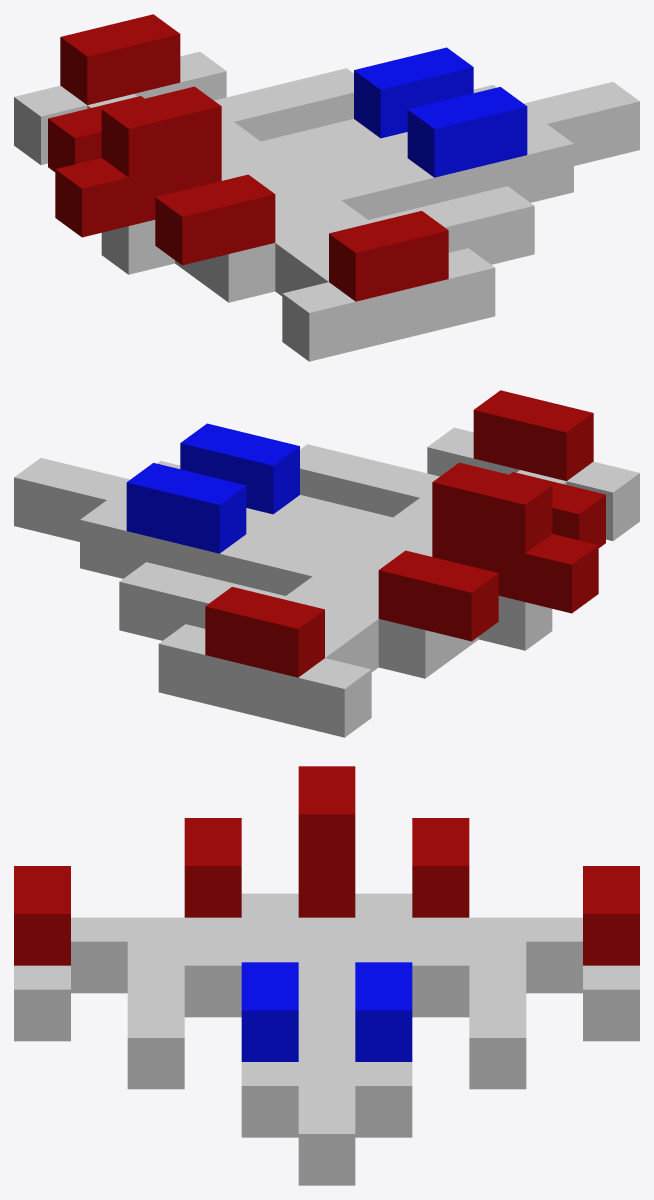
File: Player.fbx
3 renders of one model, top to bottom at view 1: azimuth 30°, elevation 25°; view 2: azimuth 150°, elevation 25°; view 3: azimuth 270°, elevation 25°, orthographic. The views are drawn at different scales.
Parts seen in each view (by area): view 1: Box082, Box073, Box075, Box088, Box090, Box065, Box069, Box071, Box062, Box072, Box068, Box074 (+36 smaller); view 2: Box084, Box075, Box088, Box090, Box066, Box071, Box073, Box069, Box064, Box074, Box070, Box072 (+36 smaller); view 3: Box020, Box046, Box048, Box052, Box042, Box062, Box064, Box068, Box070, Box078, Box079, Box089 (+38 smaller).
Part boxes in pixels (x1=…): Box082: x1=282, y1=282, x2=355, y2=361; Box073: x1=60, y1=25, x2=133, y2=104; Box075: x1=329, y1=222, x2=402, y2=301; Box088: x1=55, y1=158, x2=128, y2=237; Box090: x1=101, y1=98, x2=174, y2=177; Box065: x1=155, y1=186, x2=228, y2=265; Box069: x1=407, y1=98, x2=480, y2=177; Box071: x1=354, y1=59, x2=427, y2=138; Box062: x1=202, y1=174, x2=275, y2=253; Box072: x1=107, y1=14, x2=180, y2=93; Box068: x1=454, y1=87, x2=527, y2=166; Box074: x1=376, y1=211, x2=448, y2=290; Box084: x1=298, y1=658, x2=371, y2=737; Box075: x1=520, y1=401, x2=593, y2=480; Box088: x1=525, y1=534, x2=598, y2=613; Box090: x1=479, y1=474, x2=552, y2=553; Box066: x1=425, y1=562, x2=498, y2=641; Box071: x1=173, y1=474, x2=246, y2=553; Box073: x1=251, y1=598, x2=324, y2=677; Box069: x1=226, y1=435, x2=299, y2=514; Box064: x1=378, y1=550, x2=451, y2=629; Box074: x1=473, y1=390, x2=546, y2=469; Box070: x1=126, y1=463, x2=199, y2=542; Box072: x1=205, y1=587, x2=277, y2=666; Box020: x1=127, y1=1013, x2=184, y2=1089; Box046: x1=184, y1=941, x2=241, y2=1017; Box048: x1=412, y1=941, x2=469, y2=1017; Box052: x1=469, y1=1013, x2=526, y2=1089; Box042: x1=298, y1=1110, x2=355, y2=1185; Box062: x1=184, y1=842, x2=241, y2=917; Box064: x1=412, y1=842, x2=469, y2=917; Box068: x1=241, y1=986, x2=298, y2=1061; Box070: x1=355, y1=986, x2=412, y2=1061; Box078: x1=355, y1=1062, x2=412, y2=1137; Box079: x1=241, y1=1062, x2=298, y2=1137; Box089: x1=298, y1=790, x2=355, y2=865.
Bounding box in the file's own units: 120 × 30 × 110.
